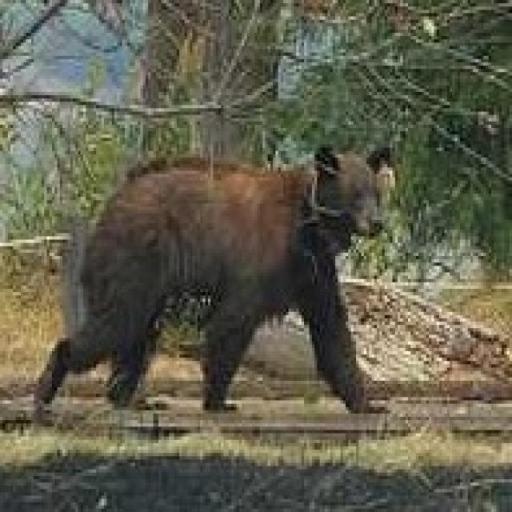Bear: (31, 141, 398, 424)
